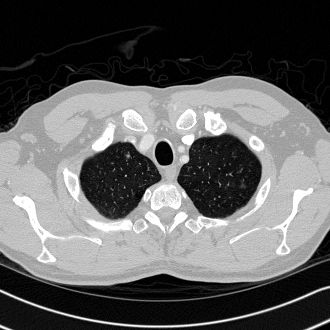nodule: (126, 154, 130, 158)
